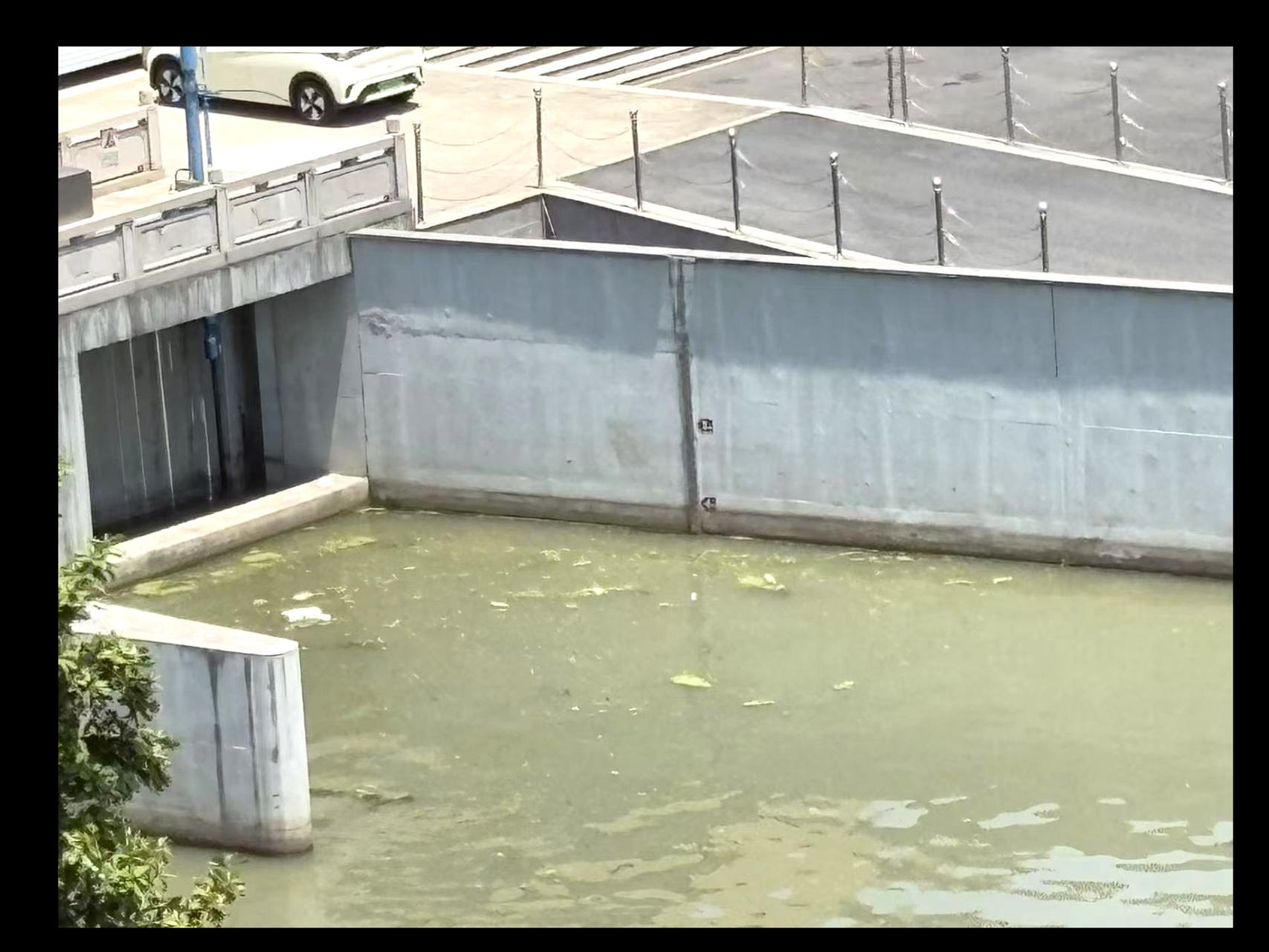Other: (132, 582, 197, 596), (738, 574, 782, 591), (669, 672, 714, 687), (323, 538, 374, 549), (569, 587, 607, 597), (241, 553, 281, 561), (542, 547, 559, 561), (743, 699, 772, 707), (511, 590, 543, 596), (831, 681, 851, 689)
Plastic wastes: (276, 606, 333, 623)
